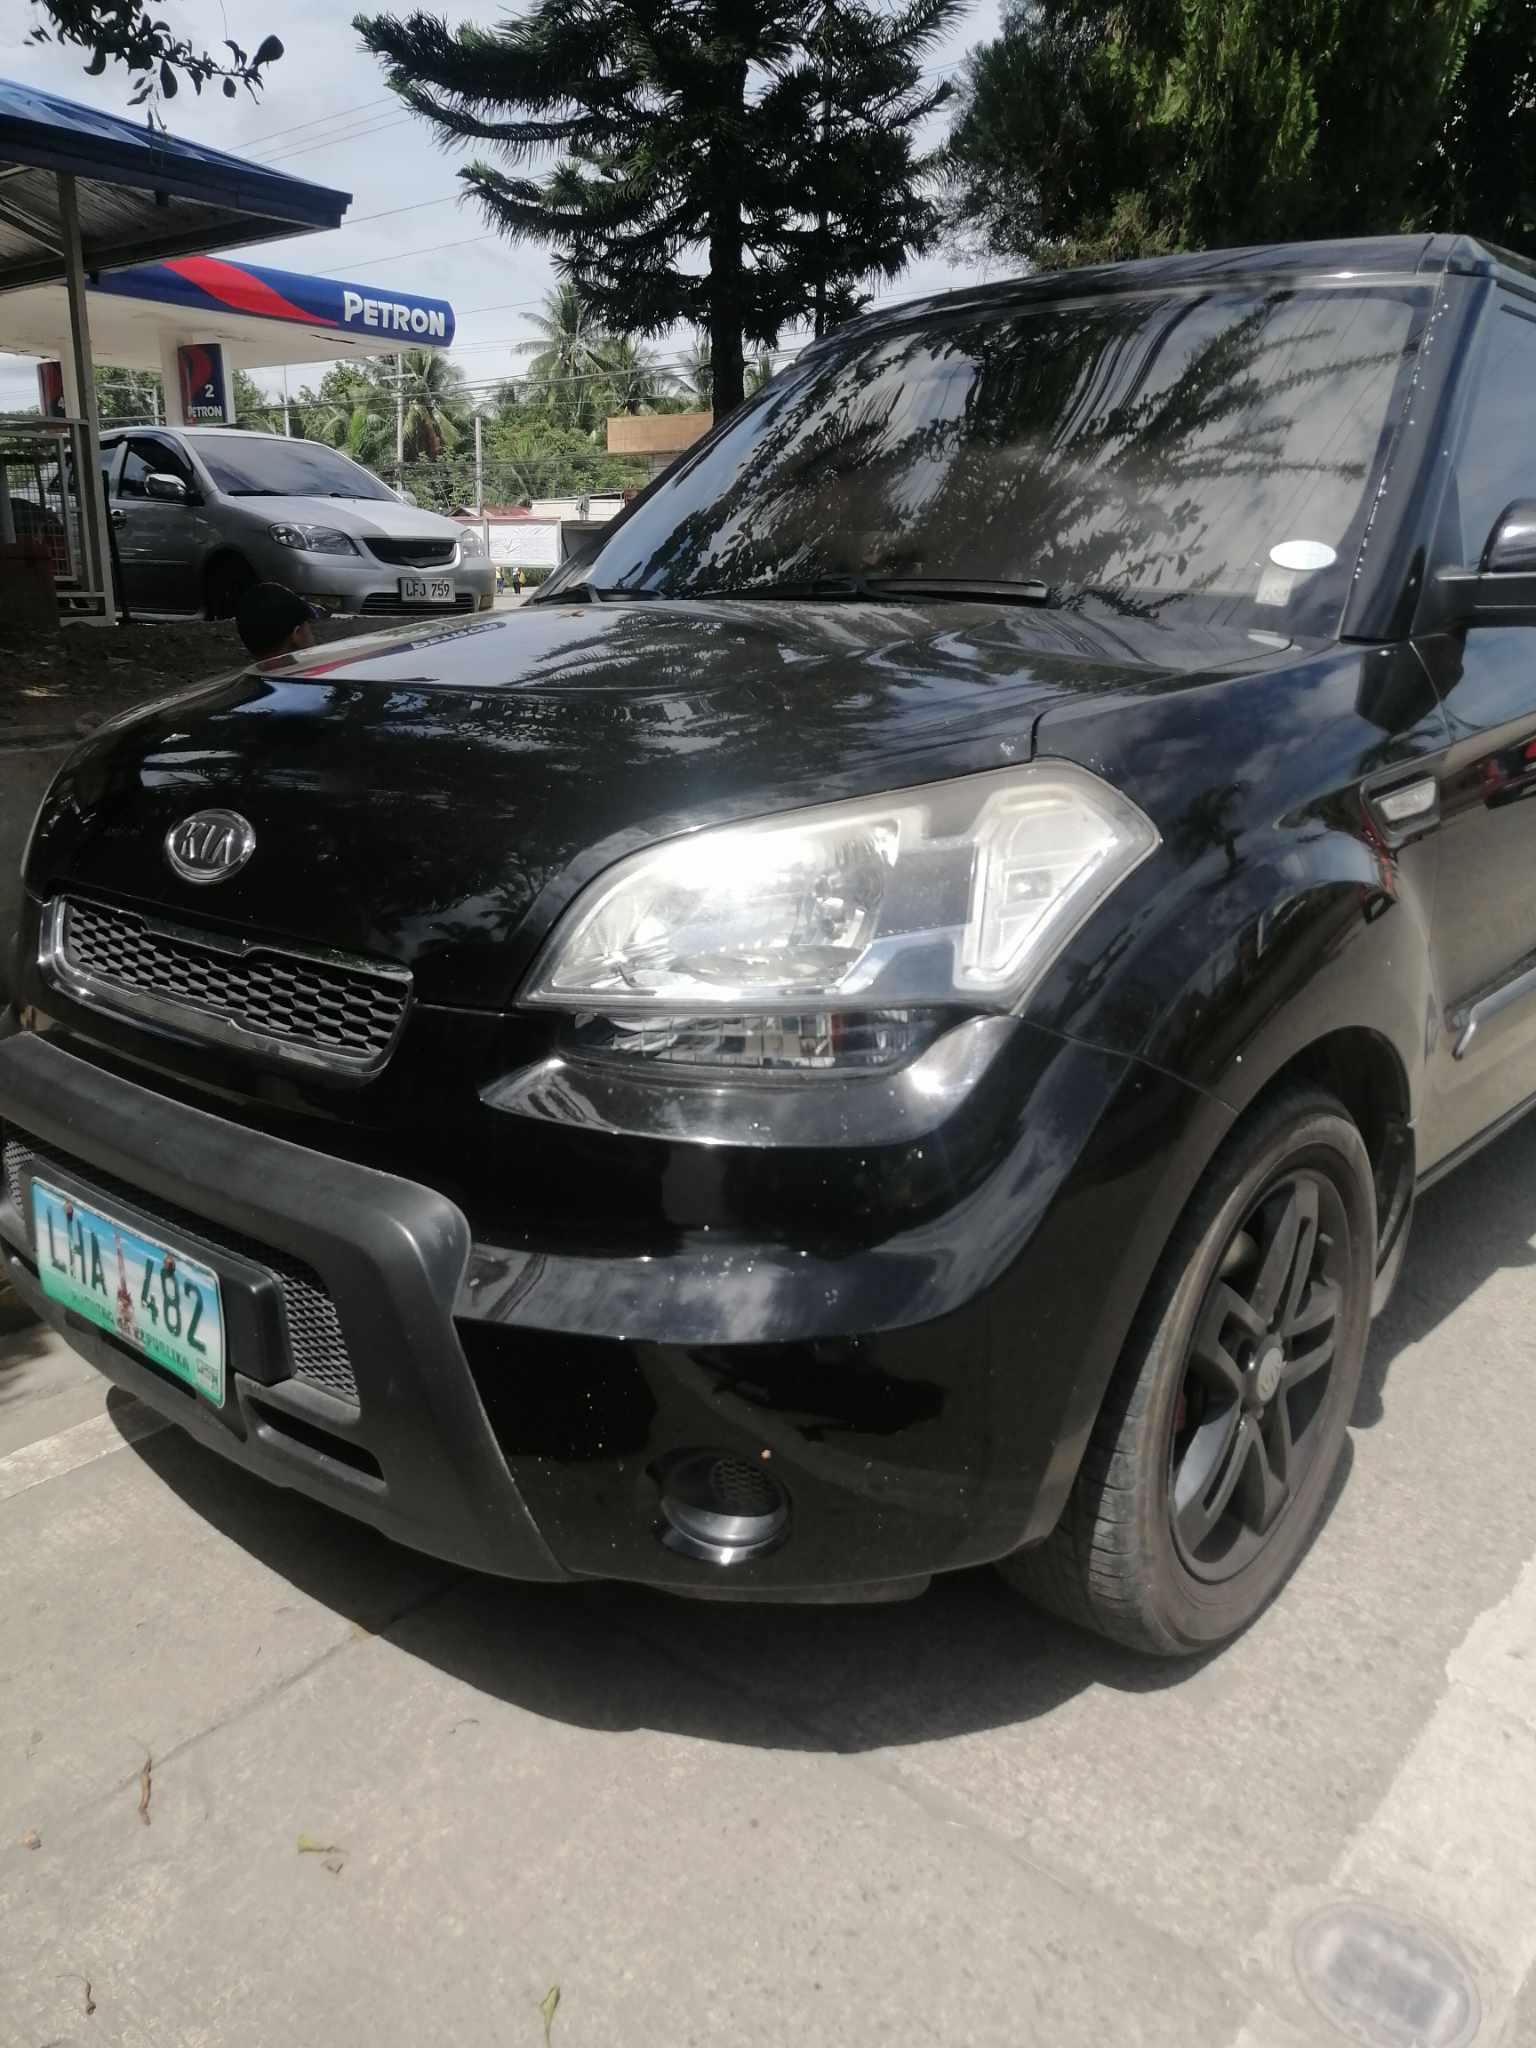license-plate: (32, 1181, 224, 1412)
